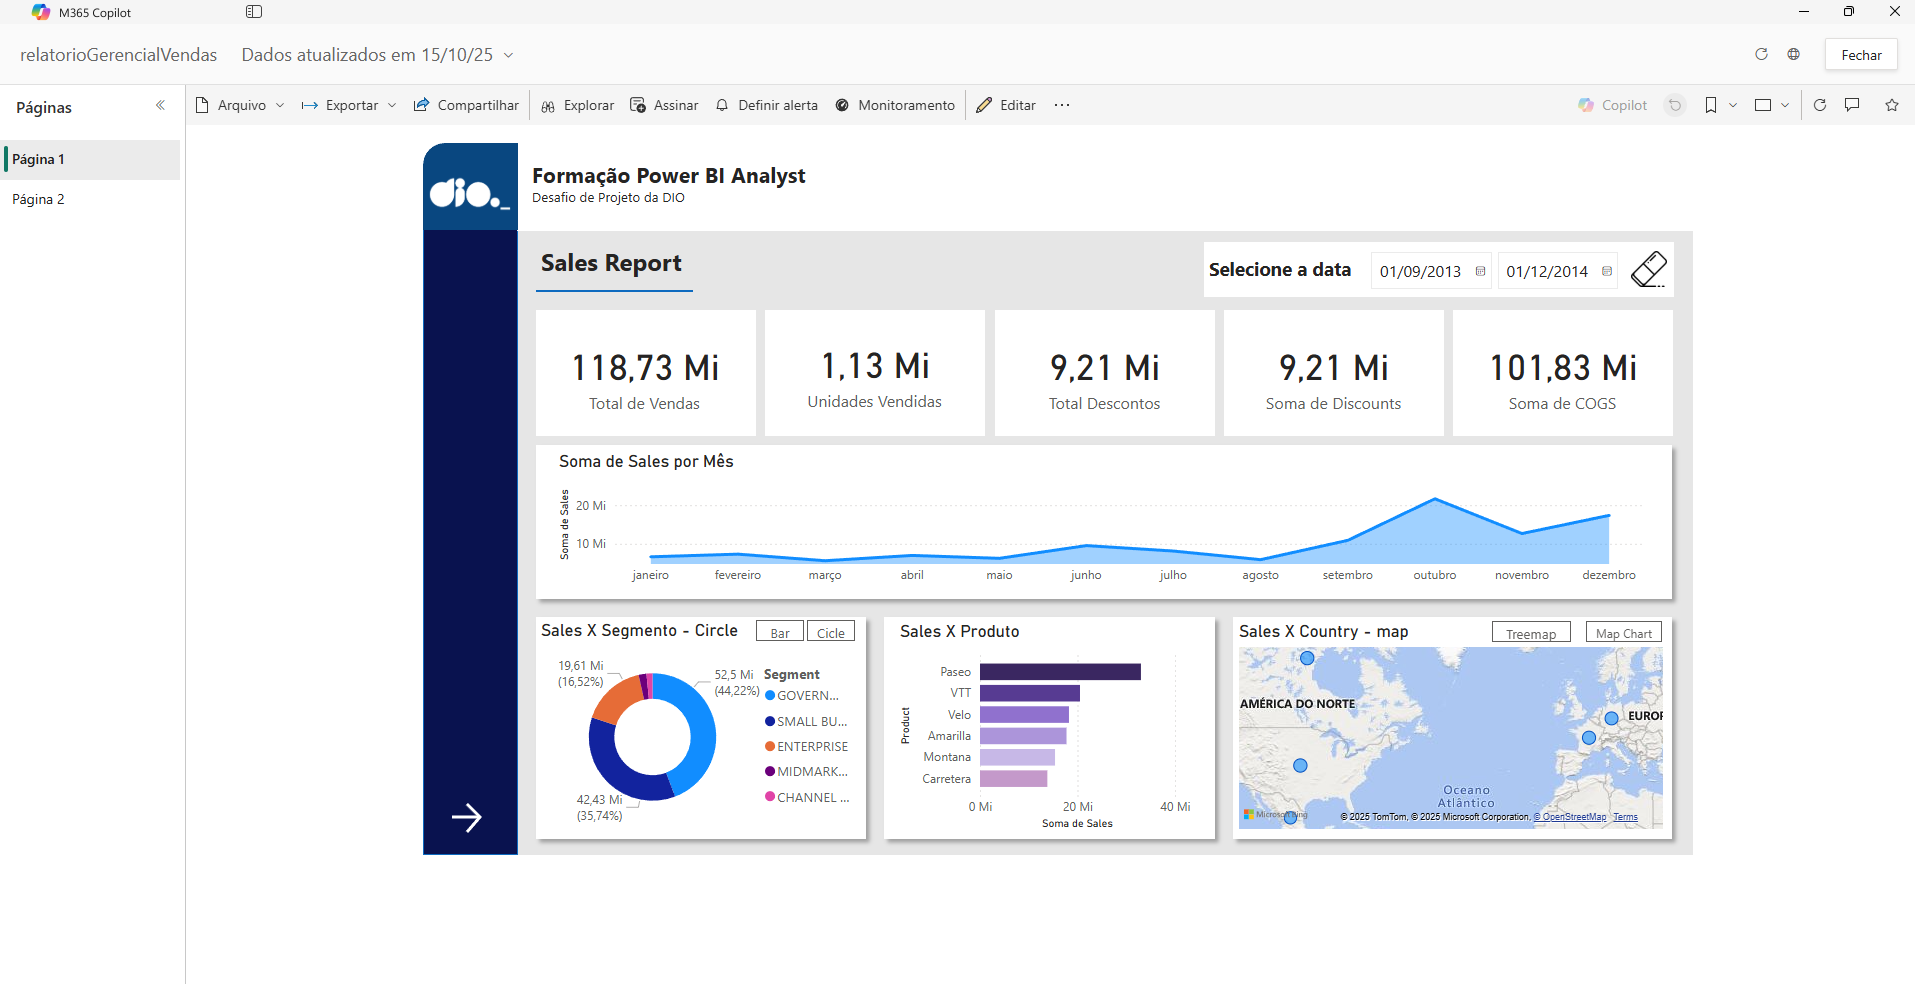

What the dashboard file says about the page in this screenshot:
{"tool":"powerbi","page":{"name":"Página 1","canvas":[1280,720],"ordinal":0},"visuals":[{"type":"shape","box":[104,96,1175.8,624.2],"z":0},{"type":"shape","box":[791,107,470,55],"z":0,"group":"g2"},{"type":"shape","box":[122.7,125.4,157.3,60],"z":0,"group":"g5"},{"type":"shape","box":[122.7,174.8,220,125.7],"z":0,"group":"g1"},{"type":"map","title":"Sales X Country  - map","fields":{"Category":["financials.Country"],"Size":["Sum(financials. Sales)"]},"box":[821,486,434,213],"z":0,"group":"g3"},{"type":"shape","box":[10,28,95,692],"z":1000},{"type":"textbox","box":[122.7,104.5,208.2,45.5],"z":1000,"group":"g5"},{"type":"image","title":"clean","box":[1213,108,46,52],"z":1000,"group":"g2"},{"type":"shape","box":[352,174.5,220,125.7],"z":1000,"group":"g1"},{"type":"donutChart","title":"Sales X Segmento - Circle","fields":{"Y":["Sum(financials. Sales)"],"Category":["financials.Segment"]},"box":[123.2,484.8,329,213],"z":1000,"group":"g4"},{"type":"actionButton","title":"Botão - bar","box":[343.1,484.8,47.9,21.4],"z":1250,"group":"g4"},{"type":"actionButton","title":"Botão - treemap","box":[1079.3,485.7,78.6,21.4],"z":1250,"group":"g3"},{"type":"actionButton","title":"Botão - circle","box":[394.5,484.8,47.9,21.4],"z":1500,"group":"g4"},{"type":"actionButton","title":"Botão - map","box":[1172.9,485.7,76.4,21.4],"z":1500,"group":"g3"},{"type":"shape","box":[104.1,7.8,1175.9,88],"z":2000},{"type":"slicer","fields":{"Values":["financials.Date"]},"box":[945,107,268,55],"z":2000,"group":"g2"},{"type":"shape","box":[581.3,174.5,220,125.7],"z":2000,"group":"g1"},{"type":"shape","box":[10,7.7,94.6,86.9],"z":3000},{"type":"textbox","box":[791,116,163,39],"z":3000,"group":"g2"},{"type":"shape","box":[810.6,174.5,220,125.7],"z":3000,"group":"g1"},{"type":"textbox","box":[114,20,454,63],"z":4000},{"type":"shape","box":[1039.8,174.8,220,125.7],"z":4000,"group":"g1"},{"type":"image","box":[9.7,11.7,94.3,92.4],"z":5000},{"type":"card","fields":{"Values":["Sum(financials.Discounts)"]},"box":[821,185,199,109],"z":5000,"group":"g1"},{"type":"group","id":"g1","title":"cartões","box":[122.7,174.5,1137.1,126],"z":6000},{"type":"card","fields":{"Values":["Sum(financials.Discounts)"]},"box":[592,185,199,109],"z":6000,"group":"g1"},{"type":"card","fields":{"Values":["Sum(financials. Sales)"]},"box":[132,185,199,109],"z":7000,"group":"g1"},{"type":"shape","box":[114,301,1154,172],"z":7000},{"type":"card","fields":{"Values":["Sum(financials.Units Sold)"]},"box":[362,183,199,109],"z":8000,"group":"g1"},{"type":"shape","box":[114,473,348,240],"z":8000},{"type":"card","fields":{"Values":["Sum(financials.COGS)"]},"box":[1050,185,199,109],"z":9000,"group":"g1"},{"type":"shape","box":[462,473,349,240],"z":9000},{"type":"shape","box":[811,473,457,240],"z":10000},{"type":"areaChart","fields":{"Category":["financials.Date.Variation.Hierarquia de datas.Mês"],"Y":["Sum(financials. Sales)"]},"box":[141,316,1095,142],"z":11000},{"type":"clusteredBarChart","title":"Sales X Produto","fields":{"Y":["Sum(financials. Sales)"],"Category":["financials.Product"]},"box":[482,486,300,213],"z":12000},{"type":"actionButton","box":[1213,110,46,50],"z":13000},{"type":"group","id":"g2","title":"Filtro por Data","box":[791,107,470,55],"z":14000},{"type":"group","id":"g3","title":"Sales X Pais","box":[821,485.7,434,213.3],"z":15000},{"type":"group","id":"g4","title":"Sales X Segmento","box":[123.2,484.8,328.3,213.1],"z":16000},{"type":"group","id":"g5","title":"Title Report","box":[122.7,104.5,208.2,80.9],"z":17000},{"type":"actionButton","box":[33,663,49,40],"z":18000}]}

Visuals, with their boxes on the page's 1280x720 design canvas (x1, y1, x2, y2). These are canvas units, not pixel positions in the 1915x984 screenshot, which may show the page scaled, cropped or inside an application window:
shape: select_region(104, 96, 1280, 720)
shape: select_region(791, 107, 1261, 162)
shape: select_region(123, 125, 280, 185)
shape: select_region(123, 175, 343, 300)
"Sales X Country  - map" map: select_region(821, 486, 1255, 699)
shape: select_region(10, 28, 105, 720)
textbox: select_region(123, 104, 331, 150)
"clean" image: select_region(1213, 108, 1259, 160)
shape: select_region(352, 174, 572, 300)
"Sales X Segmento - Circle" donutChart: select_region(123, 485, 452, 698)
"Botão - bar" actionButton: select_region(343, 485, 391, 506)
"Botão - treemap" actionButton: select_region(1079, 486, 1158, 507)
"Botão - circle" actionButton: select_region(394, 485, 442, 506)
"Botão - map" actionButton: select_region(1173, 486, 1249, 507)
shape: select_region(104, 8, 1280, 96)
slicer - financials.Date: select_region(945, 107, 1213, 162)
shape: select_region(581, 174, 801, 300)
shape: select_region(10, 8, 105, 95)
textbox: select_region(791, 116, 954, 155)
shape: select_region(811, 174, 1031, 300)
textbox: select_region(114, 20, 568, 83)
shape: select_region(1040, 175, 1260, 300)
image: select_region(10, 12, 104, 104)
card - Sum(financials.Discounts): select_region(821, 185, 1020, 294)
"cartões" group: select_region(123, 174, 1260, 300)
card - Sum(financials.Discounts): select_region(592, 185, 791, 294)
card - Sum(financials. Sales): select_region(132, 185, 331, 294)
shape: select_region(114, 301, 1268, 473)
card - Sum(financials.Units Sold): select_region(362, 183, 561, 292)
shape: select_region(114, 473, 462, 713)
card - Sum(financials.COGS): select_region(1050, 185, 1249, 294)
shape: select_region(462, 473, 811, 713)
shape: select_region(811, 473, 1268, 713)
areaChart - financials.Date.Variation.Hierarquia de datas.Mês x Sum(financials. Sales): select_region(141, 316, 1236, 458)
"Sales X Produto" clusteredBarChart: select_region(482, 486, 782, 699)
actionButton: select_region(1213, 110, 1259, 160)
"Filtro por Data" group: select_region(791, 107, 1261, 162)
"Sales X Pais" group: select_region(821, 486, 1255, 699)
"Sales X Segmento" group: select_region(123, 485, 452, 698)
"Title Report" group: select_region(123, 104, 331, 185)
actionButton: select_region(33, 663, 82, 703)
